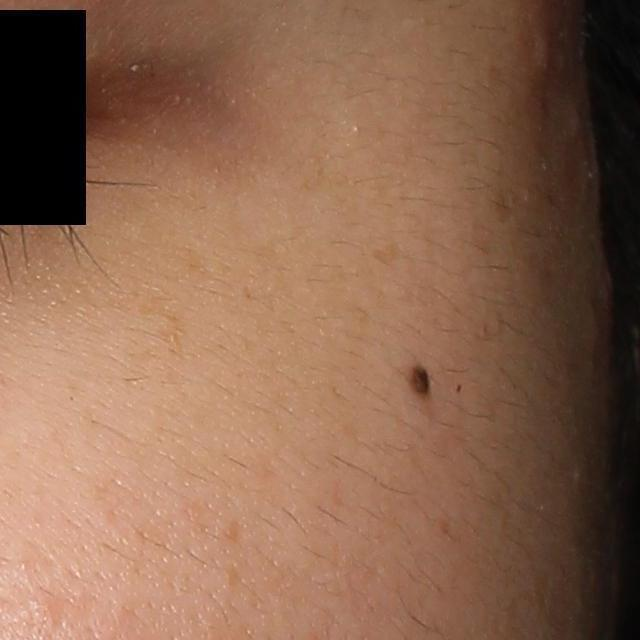nevus: (405, 361, 434, 400)
